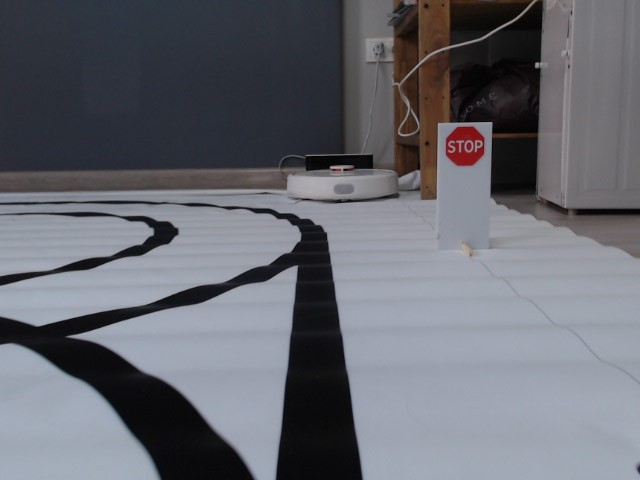Stop: (444, 125, 488, 167)
